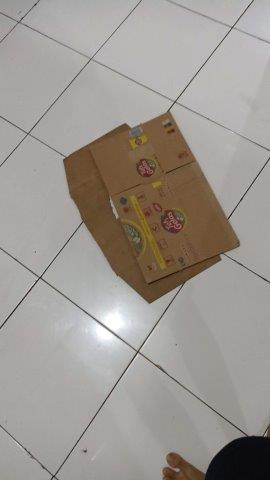kardus: (65, 112, 240, 293)
